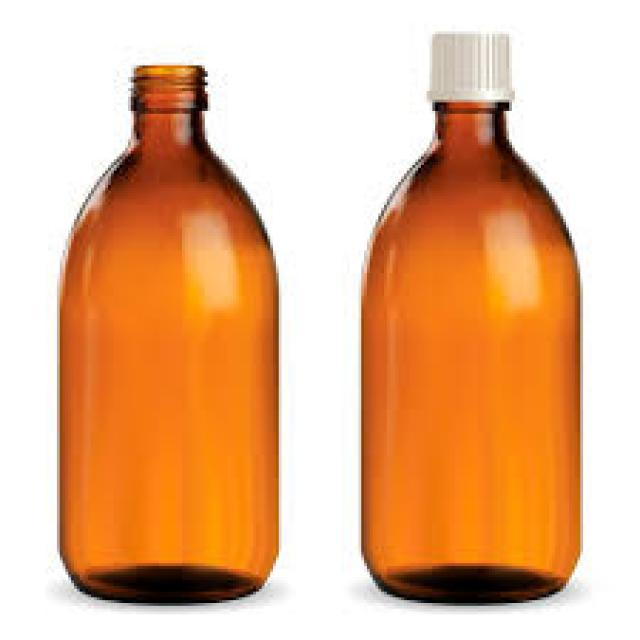glass: (60, 65, 276, 594), (361, 105, 577, 597)
